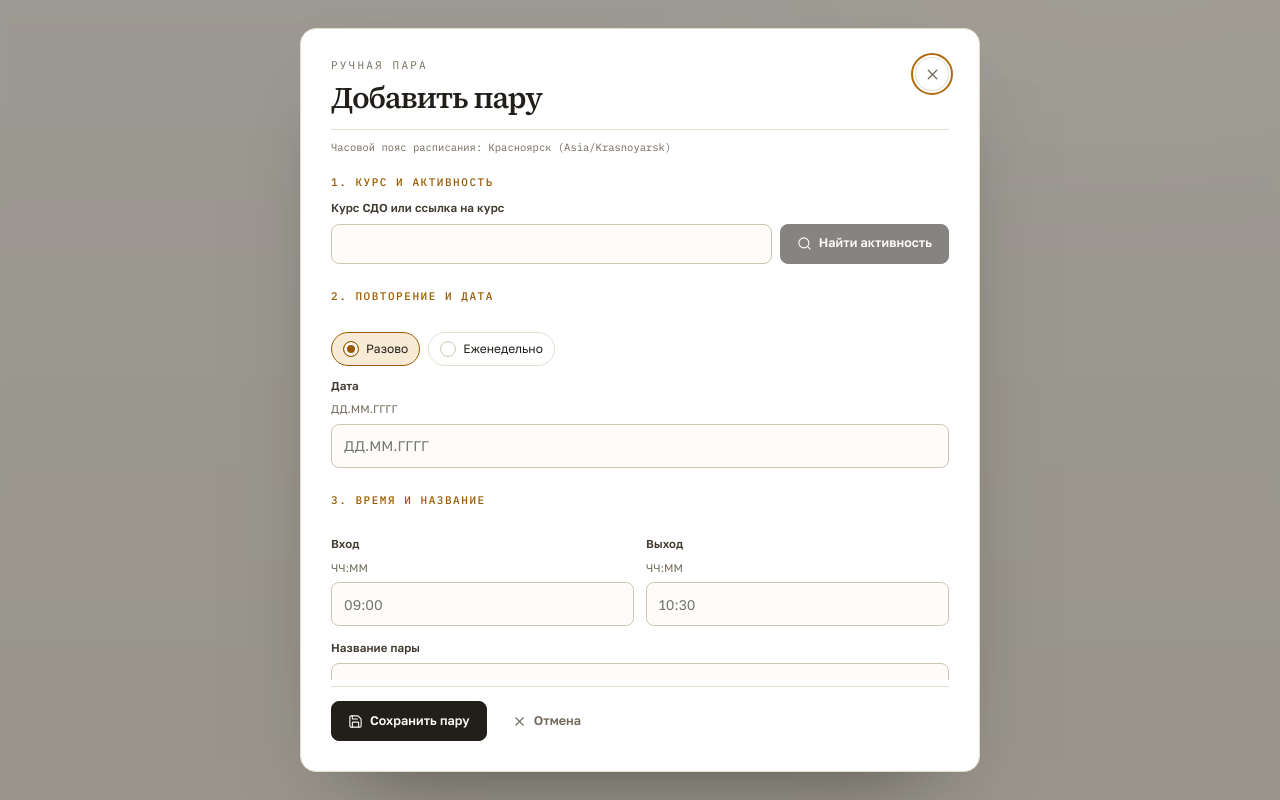
Test: ManualLectureWizard › requires at least one weekday for a weekly pair
The image size is (1280, 800).
Click the radio button labelled "Еженедельно": (448, 349) [440,341,456,357]
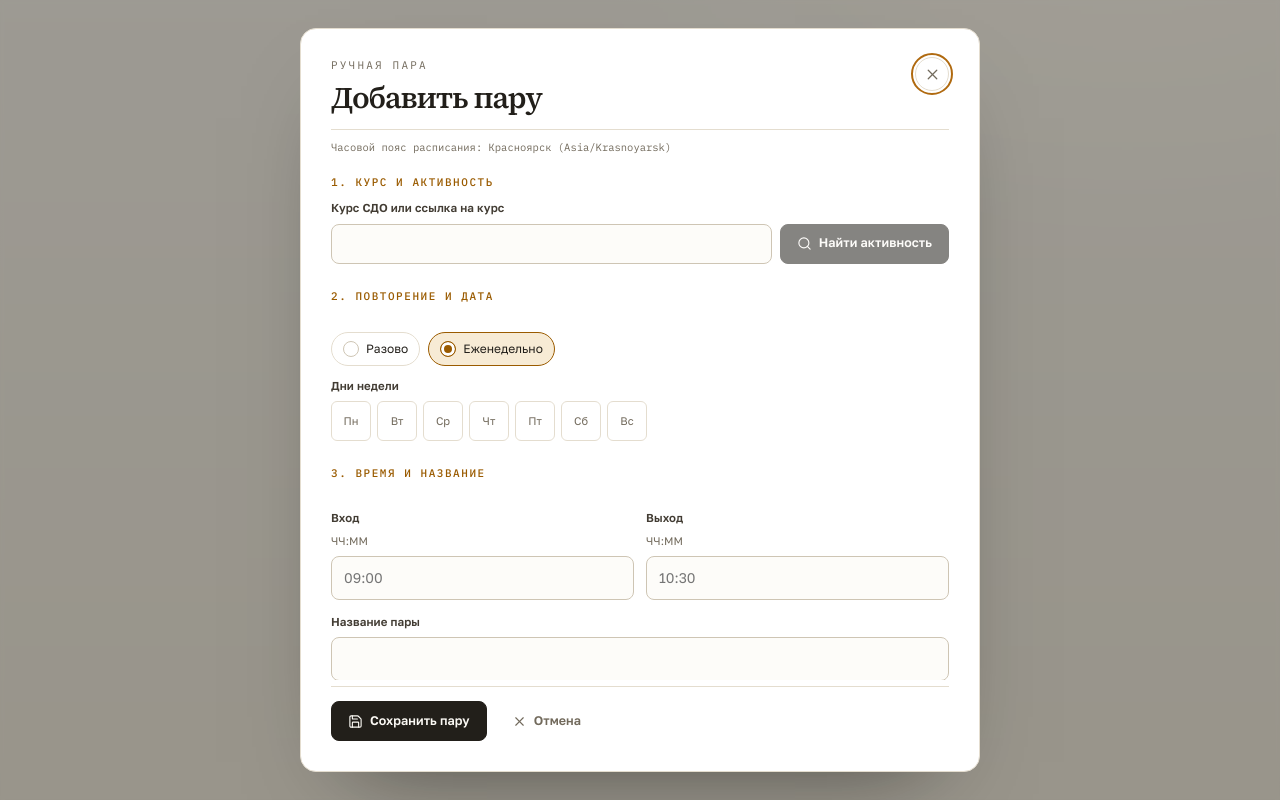
Click the button "Сохранить пару": (409, 721) [331,701,487,741]
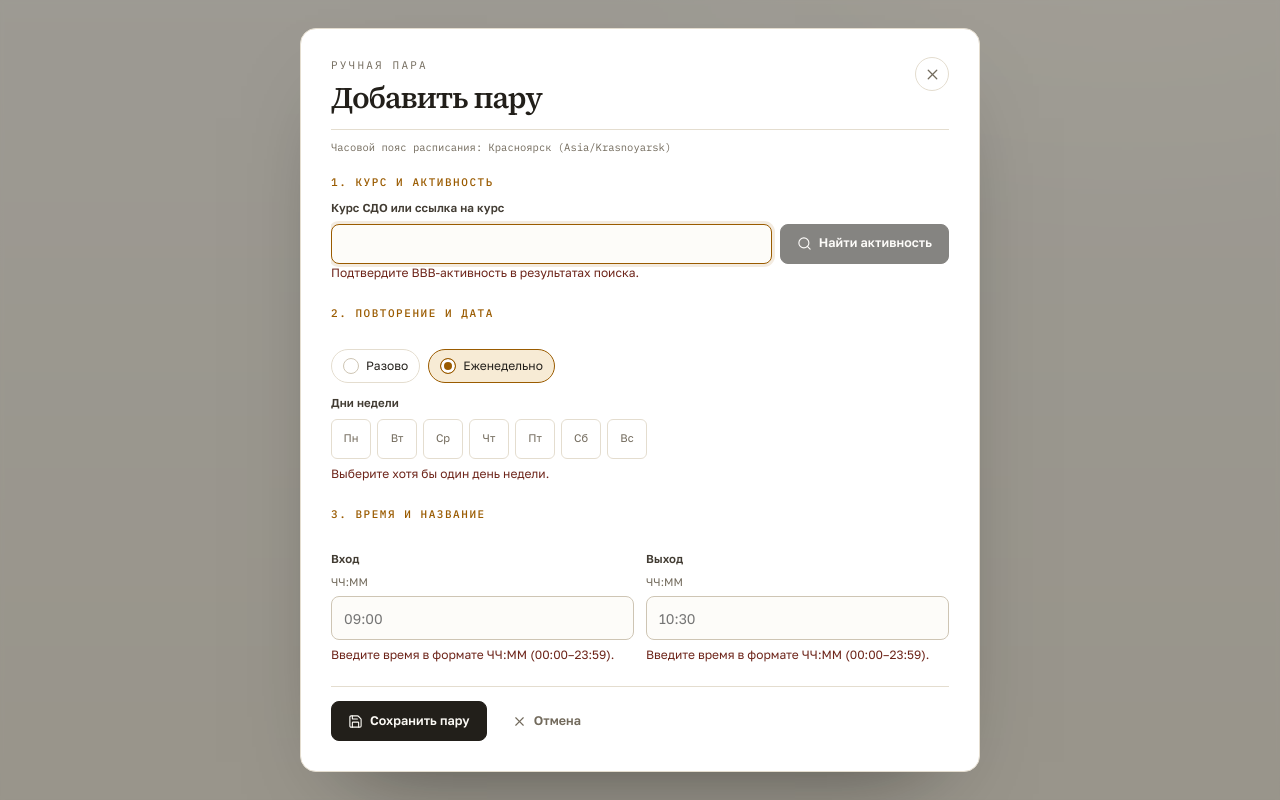
Now the text "Выберите хотя бы один день недели." is shown, box [331,466,549,481]
